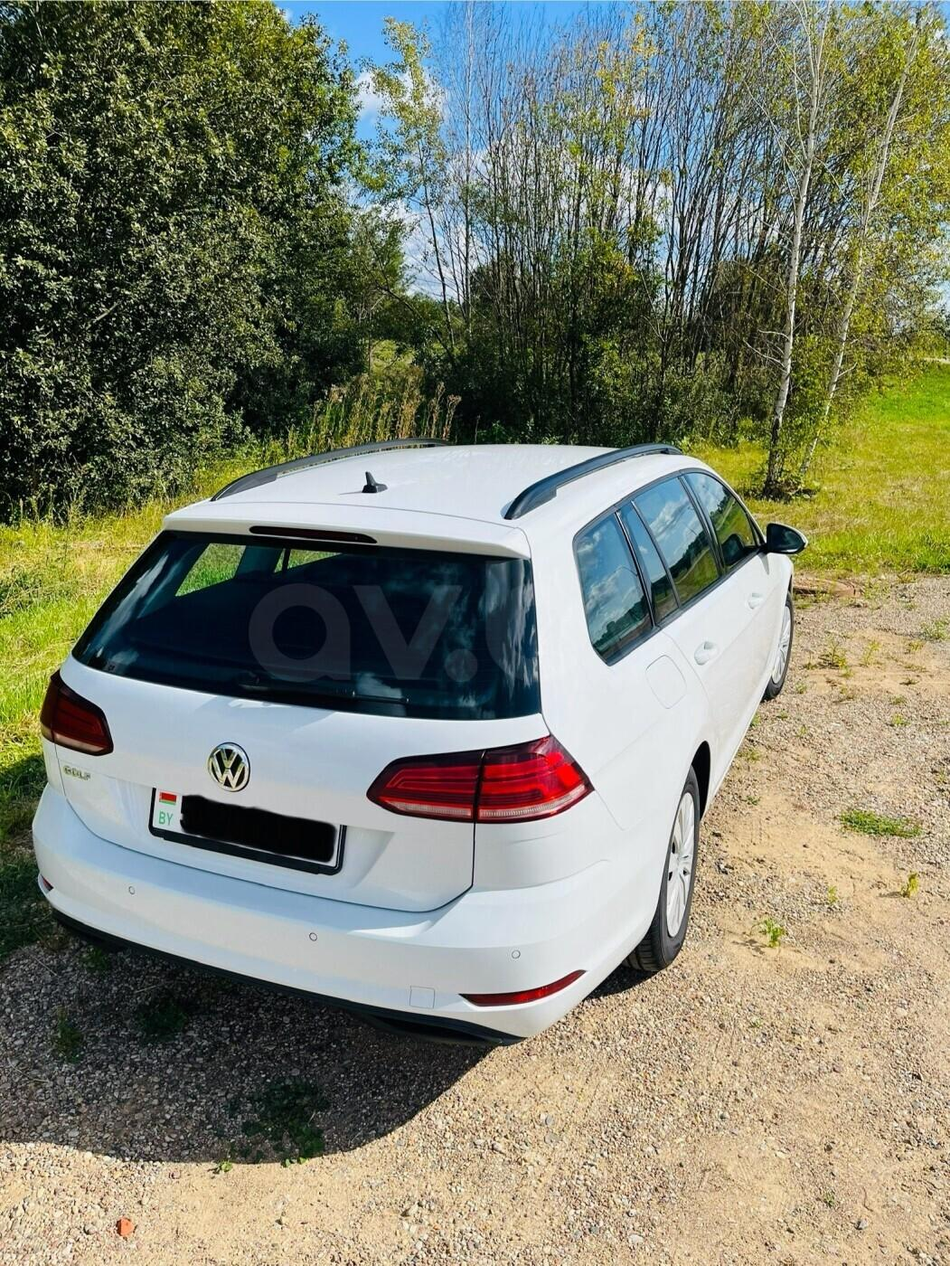Golf_2017-2021: (20, 439, 807, 1027)
